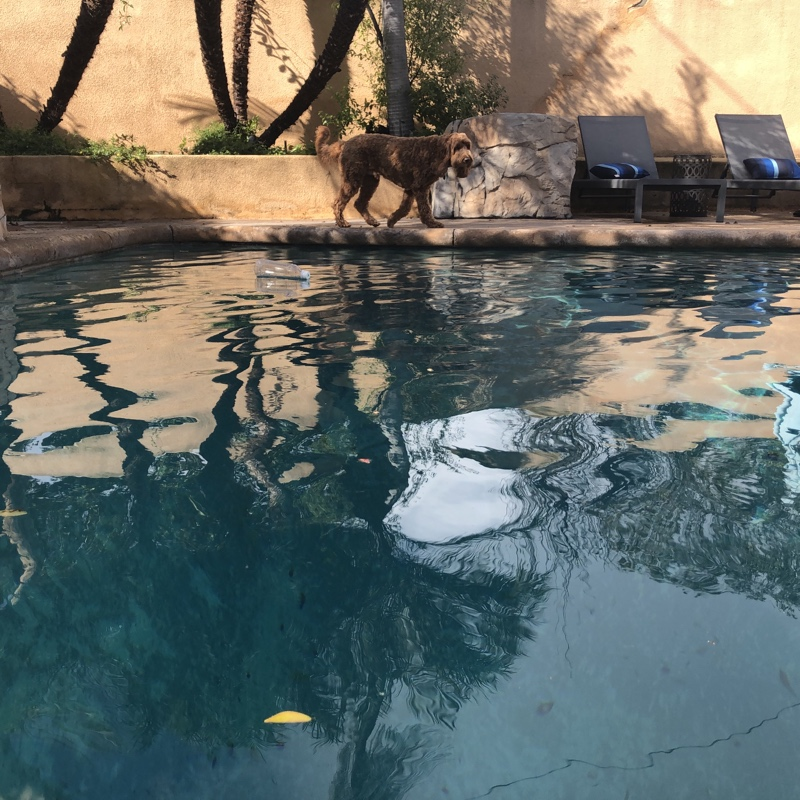Plastic Bottle: (252, 259, 313, 286)
